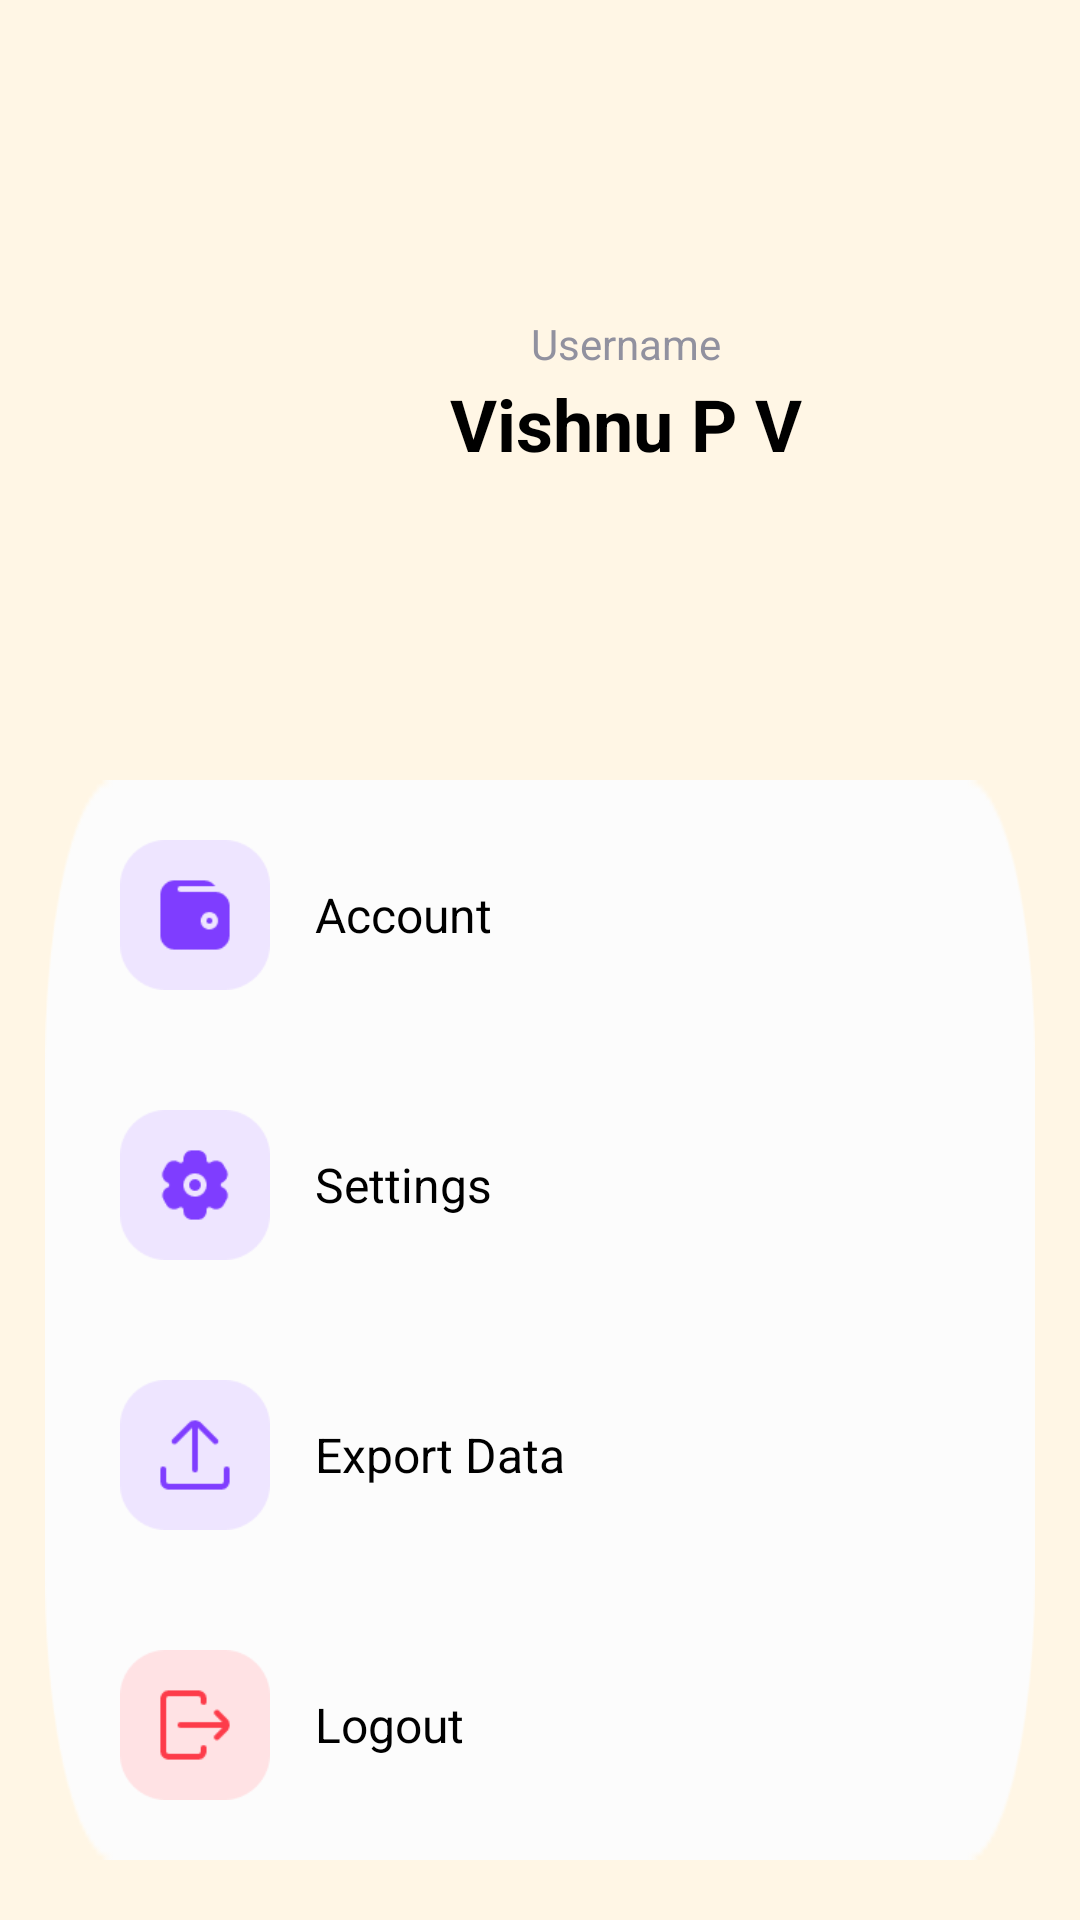

Where icons sit on this 1080px×1920px app screen, as bbox(x1, y1, x2, y2):
wallet: bbox(160, 880, 230, 950)
